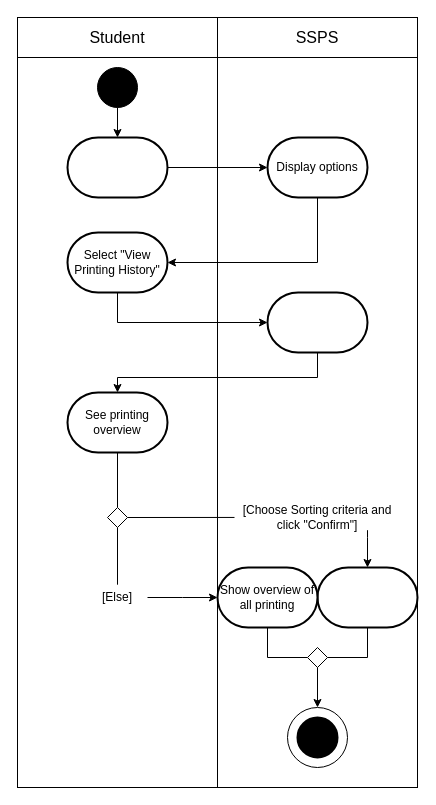
Some shapes in this 436 by 805 pixel diagram are drawn without their labels. The shapes that lost their labels are listed below. From the top down, each one's centre as x and y in pixels, then its label:
At pixel 117 167: "Open printing management page".
At pixel 317 322: "Show all student's printing".
At pixel 367 597: "Show all document sorted".
